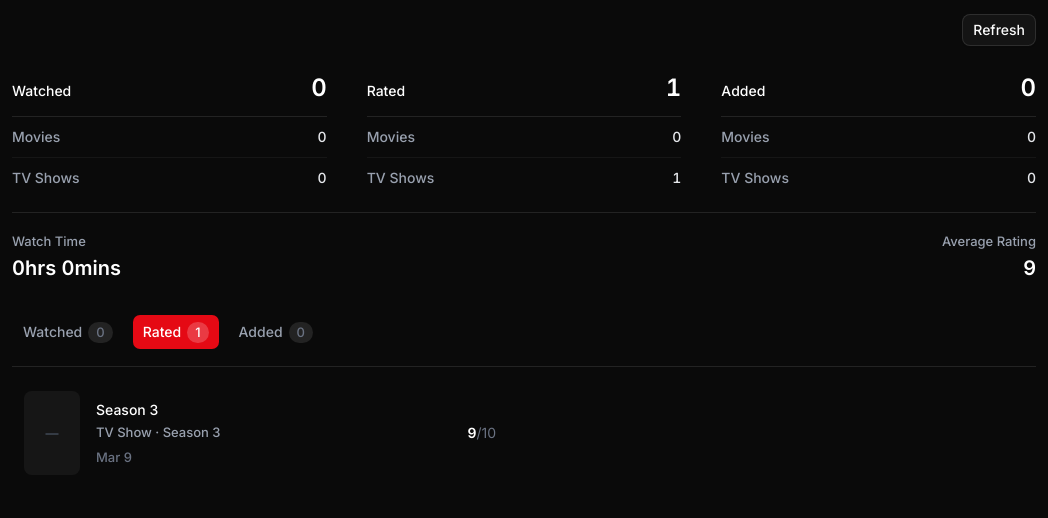
Test: Stats & History screens › selects the first populated category when only ratings are available
Click the button "Watched 0": click(68, 332) [12,314,124,350]
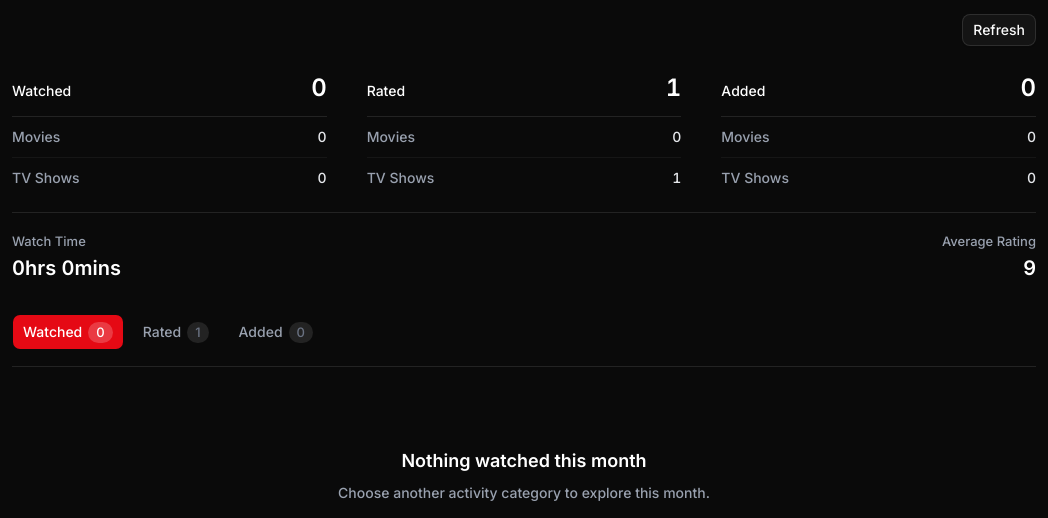
Check: the heading "Nothing watched this month" is shown, box [401,450,647,471]
